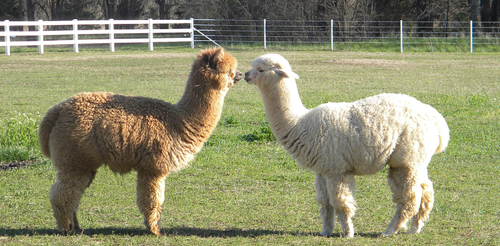alpaca: (37, 45, 244, 237), (243, 52, 450, 239)
